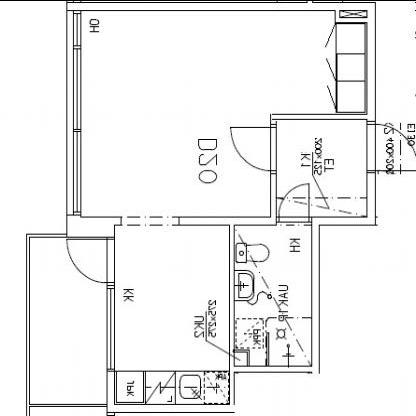door: (365, 120, 415, 180), (227, 117, 277, 175), (64, 232, 118, 282), (277, 181, 311, 231)
window: (66, 7, 86, 218), (103, 283, 121, 373)
